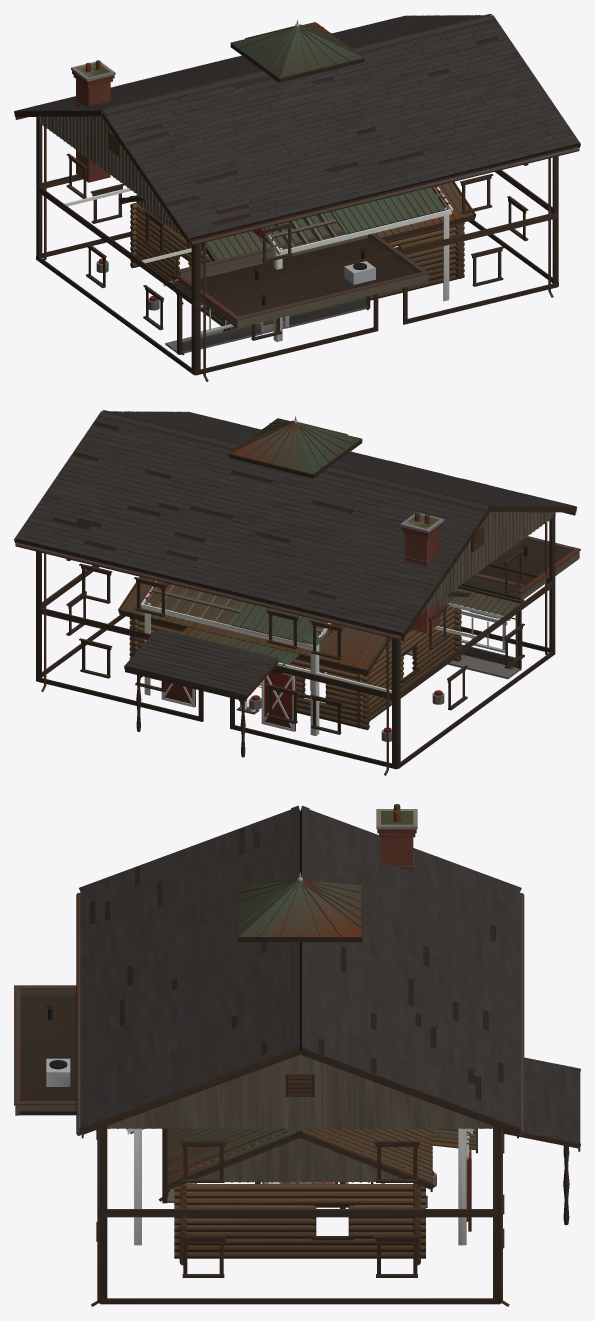
File: CannibalFamilyMeshes.glb
3 renders of one model, top to bottom at view 1: azimuth 30°, elevation 25°; view 2: azimuth 150°, elevation 25°; view 3: azimuth 270°, elevation 25°, orthographic. The views are drawn at different scales.
Parts seen in each view (by area): view 1: FarmhouseExterior_shingle, FarmhouseExterior_trim, GasStationExterior_roof_deck, RangerStationExterior_log, LookoutTowerRoof_metal_roof, FarmhouseExterior_siding, GasStationExterior_siding, FarmhouseExterior_iron, RangerStationExterior_metal_roof, BarnExterior_metal_roof, FarmhouseExterior_roof_deck, GasStationExterior_iron (+9 smaller); view 2: FarmhouseExterior_shingle, FarmhouseExterior_trim, RangerStationExterior_log, RangerStationExterior_metal_roof, LookoutTowerRoof_metal_roof, FarmhouseExterior_siding, FarmhouseExterior_iron, FarmhouseExterior_roof_deck, BarnExterior_paint_white, FarmhouseExterior_brick, BarnExterior_metal_roof, GasStationExterior_roof_deck (+12 smaller); view 3: FarmhouseExterior_shingle, FarmhouseExterior_trim, RangerStationExterior_log, FarmhouseExterior_siding, RangerStationExterior_metal_roof, LookoutTowerRoof_metal_roof, GasStationExterior_roof_deck, RangerStationExterior_siding, FarmhouseExterior_iron, FarmhouseExterior_roof_deck, RangerStationExterior_trim, BarnExterior_paint_white (+4 smaller).
Boxes of the visible parts, x1,y1,x2,y2 form: FarmhouseExterior_shingle: [15, 14, 579, 238]; FarmhouseExterior_trim: [14, 15, 580, 375]; GasStationExterior_roof_deck: [190, 238, 415, 316]; RangerStationExterior_log: [130, 202, 464, 331]; LookoutTowerRoof_metal_roof: [232, 22, 363, 78]; FarmhouseExterior_siding: [37, 116, 170, 218]; GasStationExterior_siding: [178, 233, 428, 328]; FarmhouseExterior_iron: [43, 101, 579, 381]; RangerStationExterior_metal_roof: [127, 182, 473, 260]; BarnExterior_metal_roof: [331, 187, 445, 234]; FarmhouseExterior_roof_deck: [101, 37, 578, 239]; GasStationExterior_iron: [177, 229, 429, 355]; FarmhouseExterior_shingle: [15, 410, 575, 695]; FarmhouseExterior_trim: [14, 411, 577, 769]; RangerStationExterior_log: [129, 604, 461, 730]; RangerStationExterior_metal_roof: [120, 577, 464, 669]; LookoutTowerRoof_metal_roof: [230, 418, 360, 473]; FarmhouseExterior_siding: [421, 512, 555, 613]; FarmhouseExterior_iron: [15, 522, 548, 775]; FarmhouseExterior_roof_deck: [16, 422, 490, 696]; BarnExterior_paint_white: [140, 581, 331, 735]; FarmhouseExterior_brick: [401, 512, 443, 633]; BarnExterior_metal_roof: [231, 603, 329, 645]; GasStationExterior_roof_deck: [461, 542, 567, 599]; FarmhouseExterior_shingle: [80, 805, 580, 1143]; FarmhouseExterior_trim: [79, 810, 580, 1304]; RangerStationExterior_log: [174, 1159, 468, 1265]; FarmhouseExterior_siding: [100, 1052, 492, 1128]; RangerStationExterior_metal_roof: [167, 1128, 477, 1183]; LookoutTowerRoof_metal_roof: [238, 879, 361, 936]; GasStationExterior_roof_deck: [19, 995, 76, 1115]; RangerStationExterior_siding: [182, 1128, 408, 1182]; FarmhouseExterior_iron: [76, 852, 524, 1306]; FarmhouseExterior_roof_deck: [90, 809, 502, 1099]; RangerStationExterior_trim: [166, 1128, 477, 1240]; BarnExterior_paint_white: [126, 1128, 473, 1245].
Bounding box in the file's own units: 70.85 × 46.4 × 70.31.
